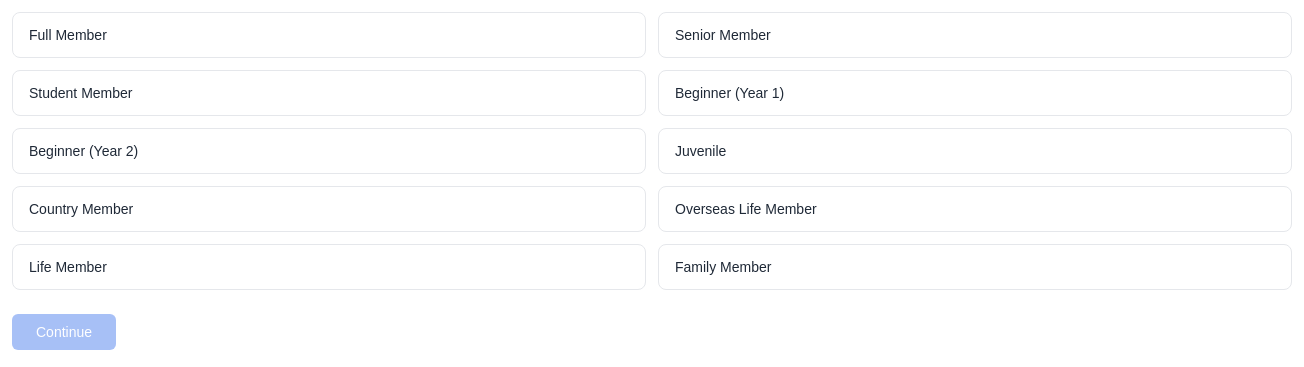
MembershipTypeSelector component › enables Continue button after clicking a type
Click the button "Senior Member".
click(723, 35)  # box [658,12,1292,58]
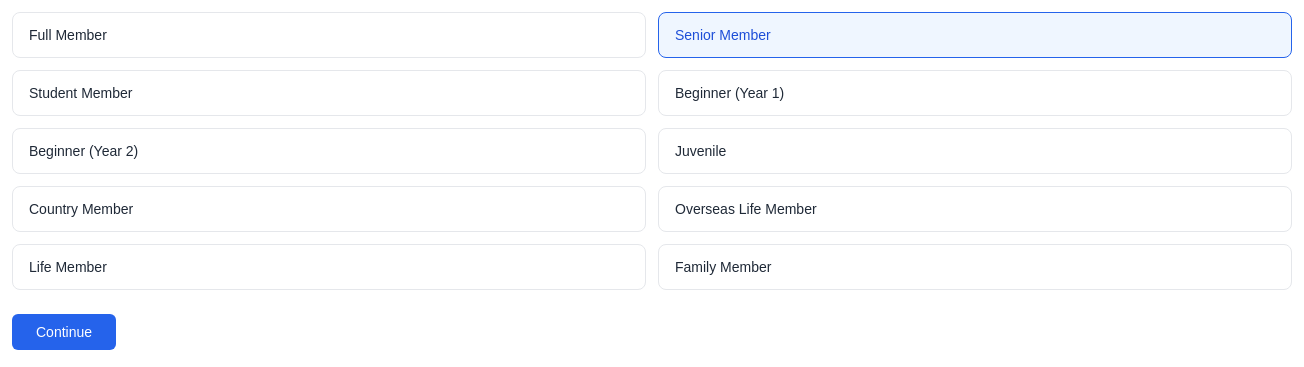
Expected: the button "Continue" is enabled, [12,314,116,350]
